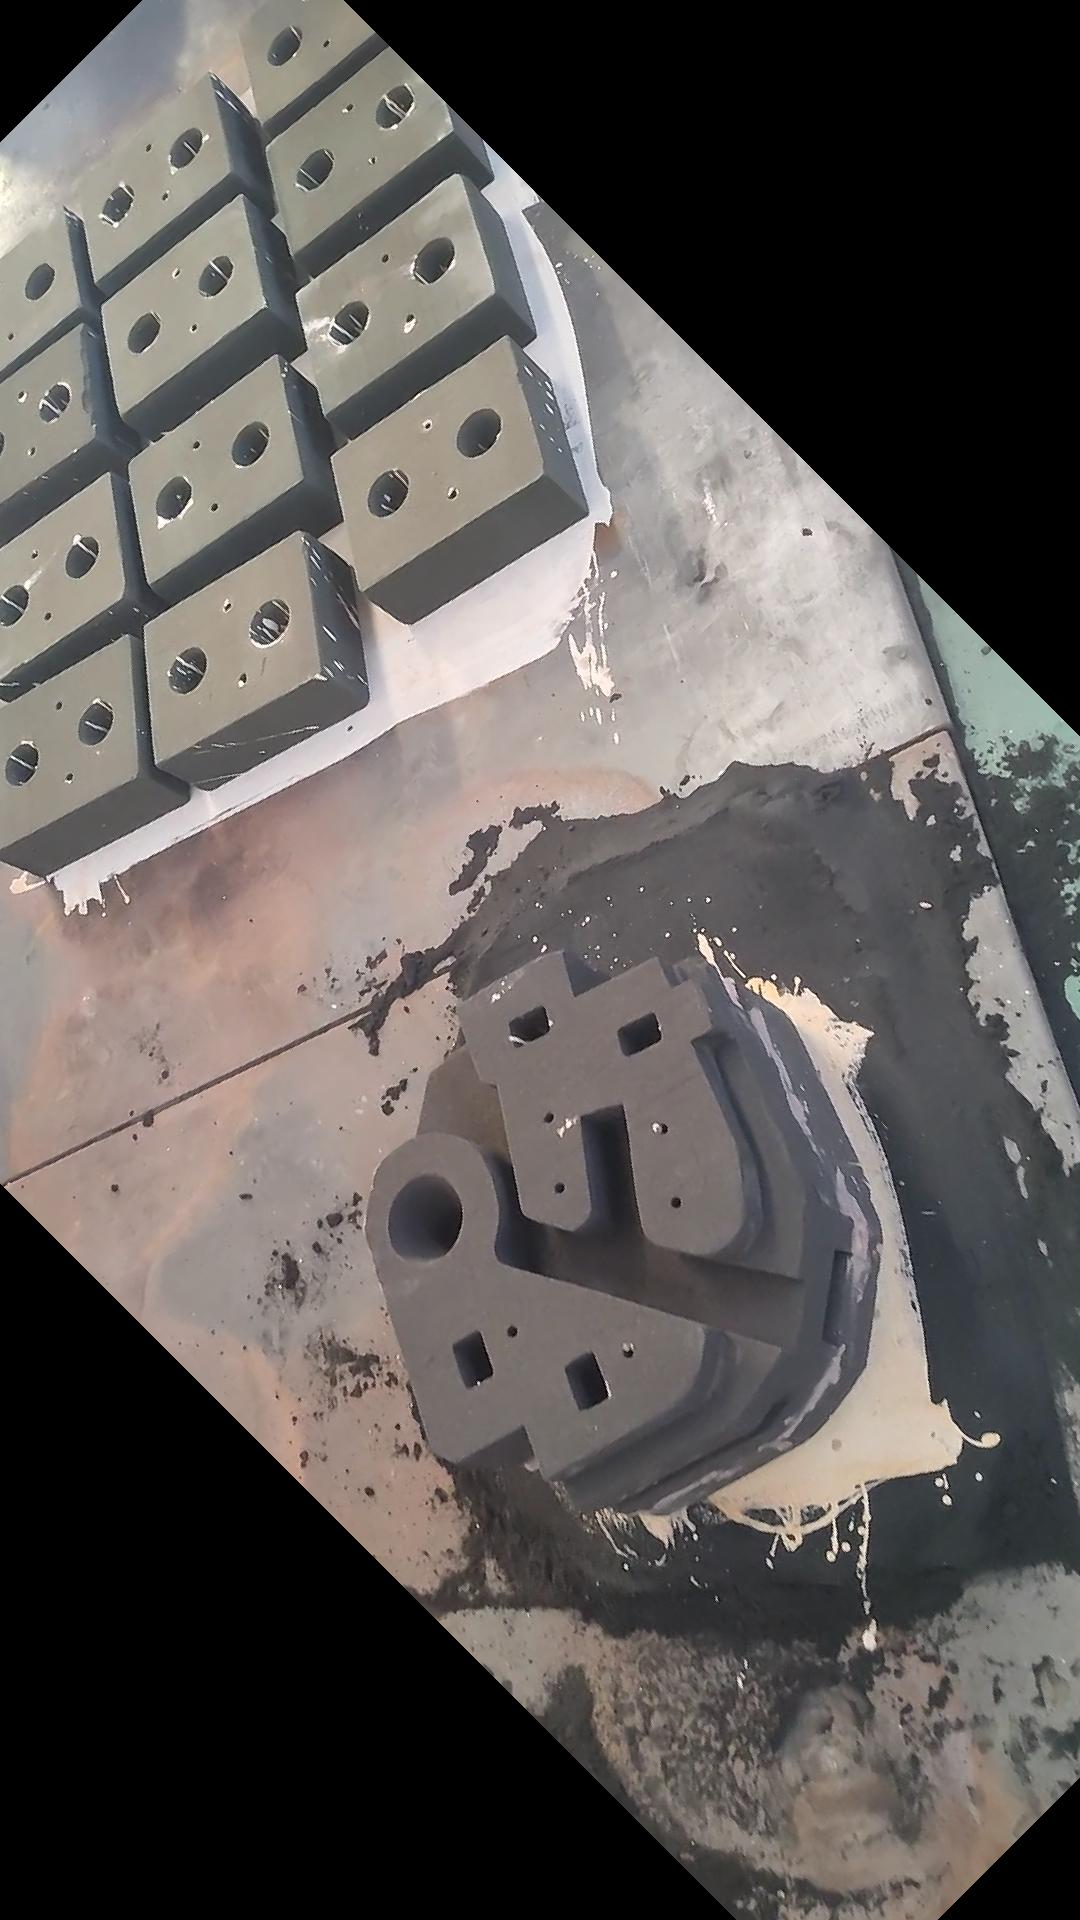pouring hole: (386, 1174, 463, 1263), (456, 407, 501, 458), (247, 599, 291, 645), (411, 237, 455, 284), (324, 301, 368, 347), (367, 469, 410, 516), (229, 419, 272, 467), (166, 646, 206, 694), (3, 740, 41, 786), (295, 148, 336, 190), (156, 473, 193, 518), (375, 84, 413, 127), (196, 255, 235, 297), (76, 702, 113, 745), (65, 535, 100, 580), (266, 22, 302, 66), (167, 127, 203, 169), (127, 313, 161, 353), (38, 382, 73, 423), (102, 185, 135, 224), (1, 585, 32, 625), (24, 264, 55, 301), (1, 434, 7, 454)
